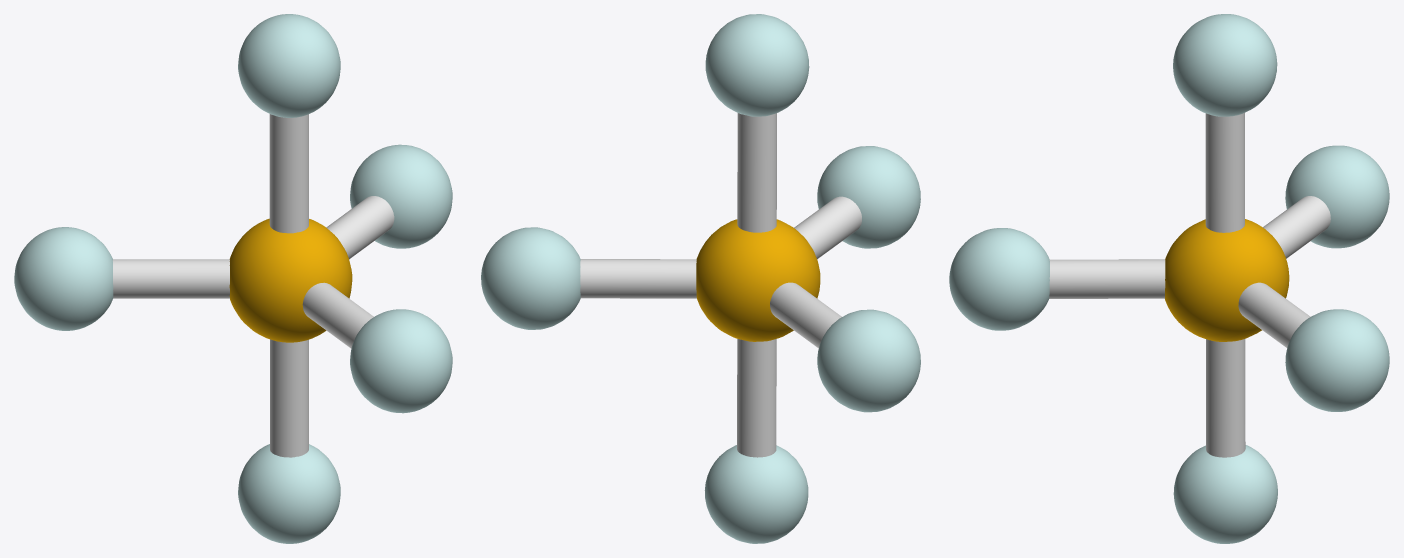
3 renders of one model, left to right at view 1: azimuth 30°, elevation 25°; view 2: azimuth 150°, elevation 25°; view 3: azimuth 270°, elevation 25°, orthographic.
Parts seen in each view (by area): view 1: Phosphorus; view 2: Phosphorus; view 3: Phosphorus.
Boxes of the visible parts, bbox=[...] form: Phosphorus: bbox=[14, 14, 452, 543]; Phosphorus: bbox=[481, 14, 920, 543]; Phosphorus: bbox=[949, 14, 1389, 543].
Size of the model in its own units: 3.42 by 4 by 3.07.
